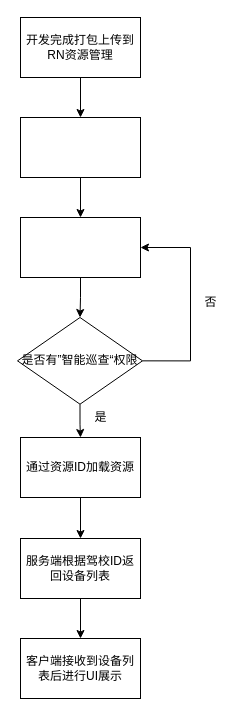
Image size: 248x716. Some labels were removed from this diagram. The centre of each missing label's shape, as x and y in pixels:
"生成资源ID" belongs at point (80, 147).
"登陆驾校通App" belongs at point (80, 247).
